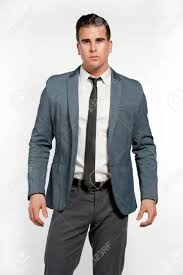F_M_suit jacket: (27, 62, 166, 220)
F_belt: (63, 171, 129, 196)
F_dress pants: (40, 191, 129, 274)
F_tie: (79, 71, 112, 188)
